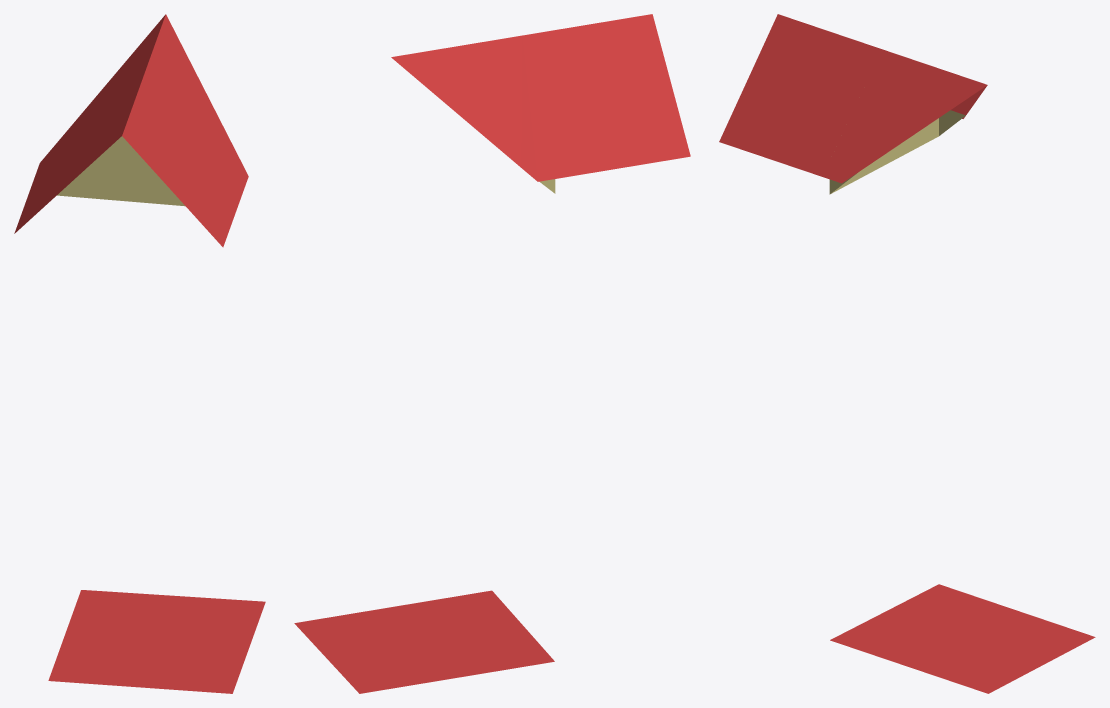
3 views of the same model, side by side, from view 1: azimuth 30°, elevation 25°; view 2: azimuth 150°, elevation 25°; view 3: azimuth 270°, elevation 25° (orthographic). The views are drawn at different scales.
Bounding box in the file's own units: 7.82 × 8.35 × 13.79.
